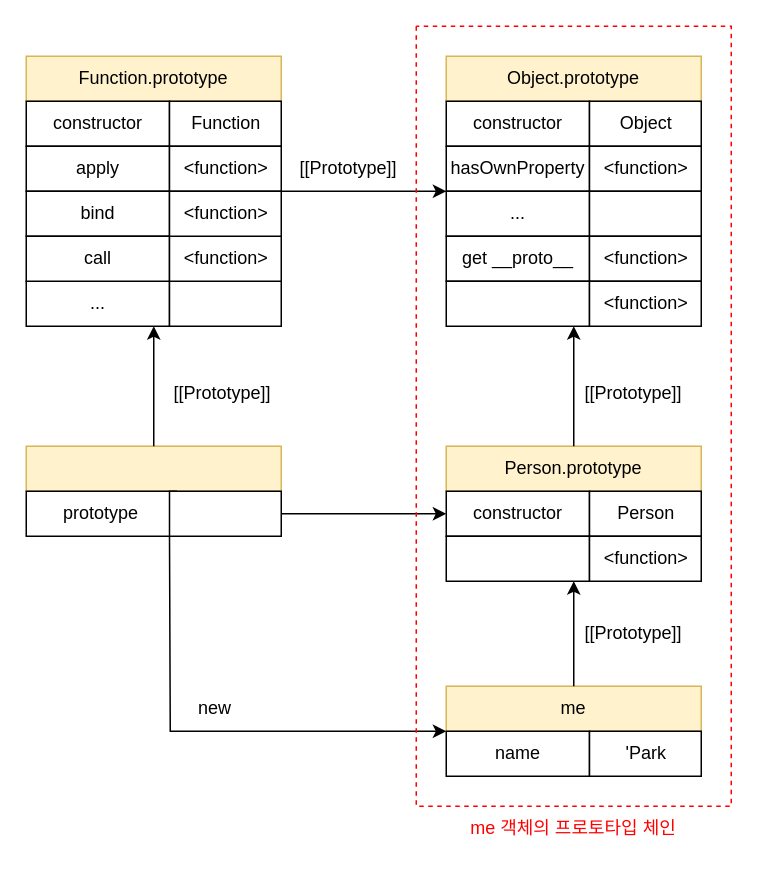
Image size: 759x878. Some labels were removed from this diagram. Here are the shapes that lost their labels. From the top down, the centre of each, then its label:
(517,303): set __proto__
(153,468): Person 생성자 함수
(517,558): sayHello
